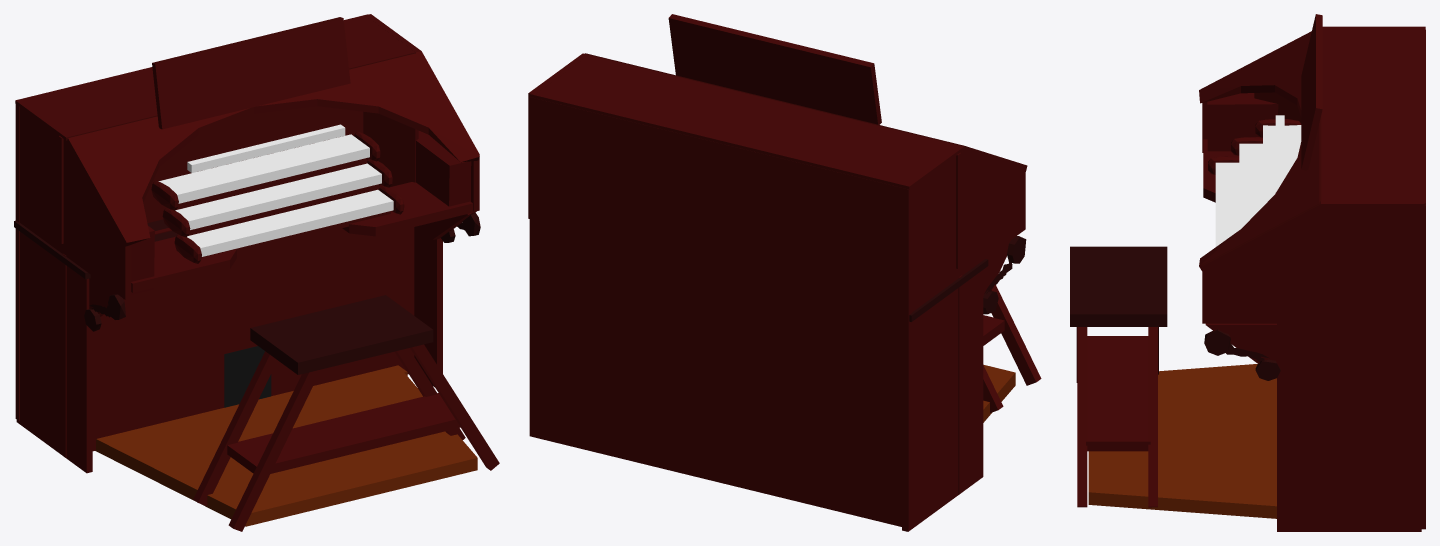
The model's file is organo.FBX.
3 renders of one model, left to right at view 1: azimuth 30°, elevation 25°; view 2: azimuth 150°, elevation 25°; view 3: azimuth 270°, elevation 25°, orthographic. The views are drawn at different scales.
Parts seen in each view (by area): view 1: dividerwal, Boolean_3, cutslopefr, musicrack, Cube_1, Boolean_le, bench_seat, top, Cube_7, nameboard, manualke-0, manualke-1 (+20 smaller); view 2: backwall, top, Cube_1, musicrack, Boolean_le, Cube_6_2, cutslopefr, dividerwal, Boolean_3, midcrossme, nameboard, Boolean_ri (+1 smaller); view 3: Cube_1_1, Boolean_ri, Boolean_3, top, bench_seat, cutslopefr, Cube_7, Cube_9, musicrack, Cube_6, manualke-1, manualkeys (+9 smaller).
Boxes of the visible parts, x1,y1,x2,y2 form: dividerwal: (62,227,414,457); Boolean_3: (95,365,477,526); cutslopefr: (66,52,479,246); musicrack: (152,17,350,129); Cube_1: (16,232,92,473); Boolean_le: (19,107,131,299); bench_seat: (250,295,433,374); top: (15,14,415,140); Cube_7: (227,393,460,473); nameboard: (58,106,363,243); manualke-0: (158,134,369,203); manualke-1: (187,189,393,256); backwall: (529,97,912,528); top: (530,55,963,189); Cube_1: (902,270,983,531); musicrack: (668,14,881,124); Boolean_le: (912,151,1025,311); Cube_6_2: (991,284,1041,385); cutslopefr: (585,53,1027,172); dividerwal: (958,275,962,494); Boolean_3: (983,364,1015,422); midcrossme: (909,259,988,321); nameboard: (956,152,961,268); Boolean_ri: (528,53,589,218); Cube_1_1: (1277,323,1421,531); Boolean_ri: (1202,201,1424,323); Boolean_3: (1088,364,1276,518); top: (1321,26,1425,205); bench_seat: (1070,246,1167,326); cutslopefr: (1199,31,1321,270); Cube_7: (1086,336,1150,451); Cube_9: (1207,93,1278,151); musicrack: (1301,14,1322,170); Cube_6: (1077,327,1087,507); manualke-1: (1215,162,1239,246); manualkeys: (1239,143,1262,229).
Size of the model in its own units: 15.5 by 15.53 by 13.
